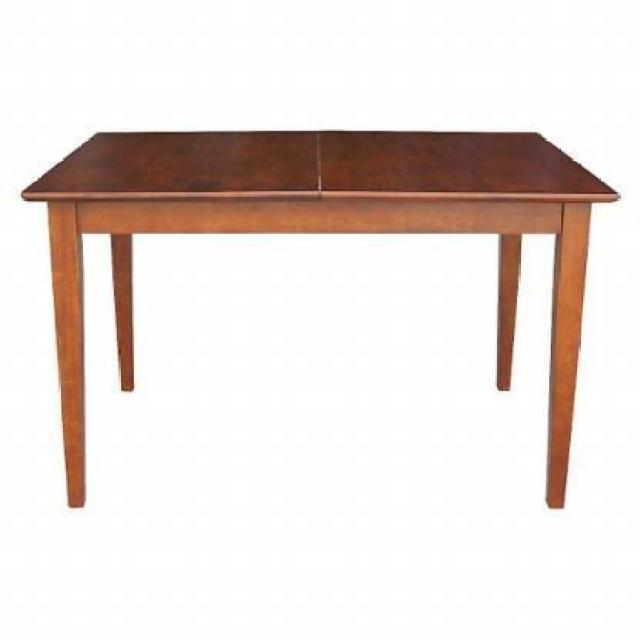tables: (18, 128, 620, 510)
